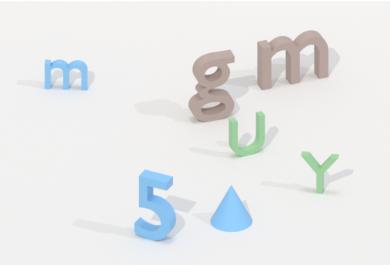0-TamGiac: (207, 182, 257, 237)
5: (132, 165, 178, 245)
U: (227, 109, 269, 160)
Y: (299, 145, 342, 199)
g: (185, 45, 236, 126)
m: (253, 27, 334, 93), (40, 55, 92, 95)
